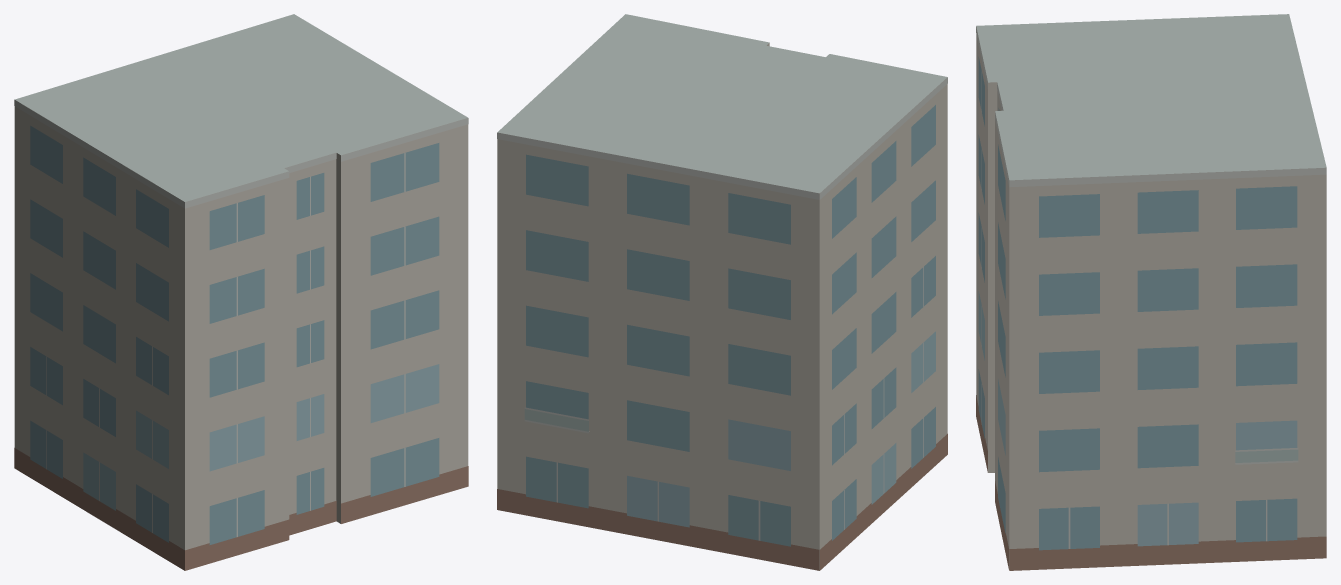
The model's file is survey-upis-32664887.glb.
3 views of the same model, side by side, from view 1: azimuth 30°, elevation 25°; view 2: azimuth 150°, elevation 25°; view 3: azimuth 270°, elevation 25° (orthographic). The views are drawn at different scales.
Parts seen in each view (by area): view 1: survey-upis-32664887.tmp; view 2: survey-upis-32664887.tmp; view 3: survey-upis-32664887.tmp.
Boxes of the visible parts, <box> form: survey-upis-32664887.tmp: <box>14,14,468,570</box>; survey-upis-32664887.tmp: <box>497,14,947,570</box>; survey-upis-32664887.tmp: <box>976,14,1326,570</box>.
Bounding box in the file's own units: 12.71 × 13.9 × 11.32.
